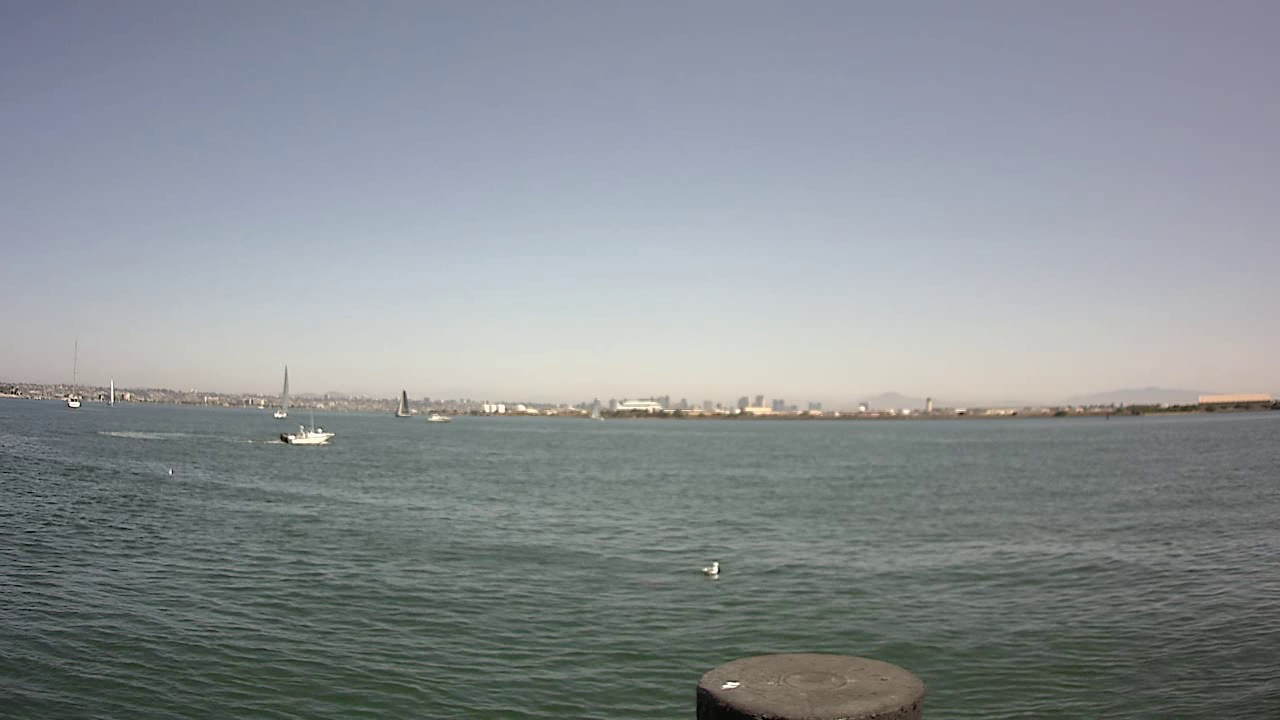target: (277, 421, 337, 452)
